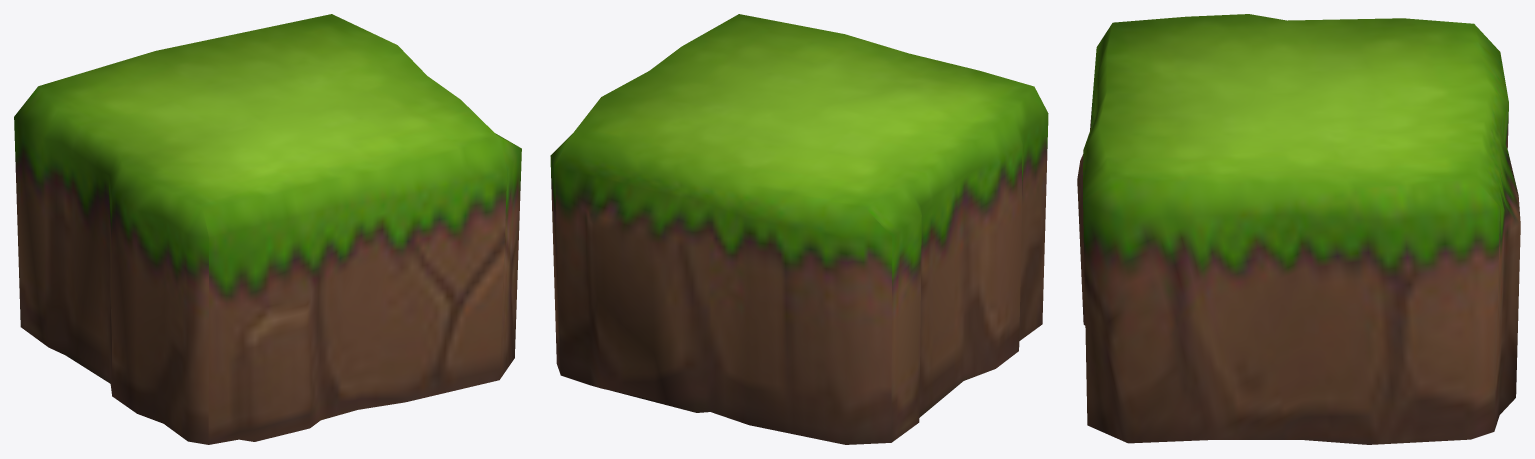
The model's file is island_Grass_S.FBX.
The picture shows the model from 3 angles, left to right: view 1: azimuth 30°, elevation 25°; view 2: azimuth 150°, elevation 25°; view 3: azimuth 270°, elevation 25°; orthographic projection. The views are drawn at different scales.
Parts seen in each view (by area): view 1: island_Grass_S; view 2: island_Grass_S; view 3: island_Grass_S.
Part boxes in pixels (<box>): island_Grass_S: <box>14,14,521,444</box>; island_Grass_S: <box>550,14,1048,444</box>; island_Grass_S: <box>1077,14,1520,444</box>.
Size of the model in its own units: 4.11 by 2.63 by 4.12.
